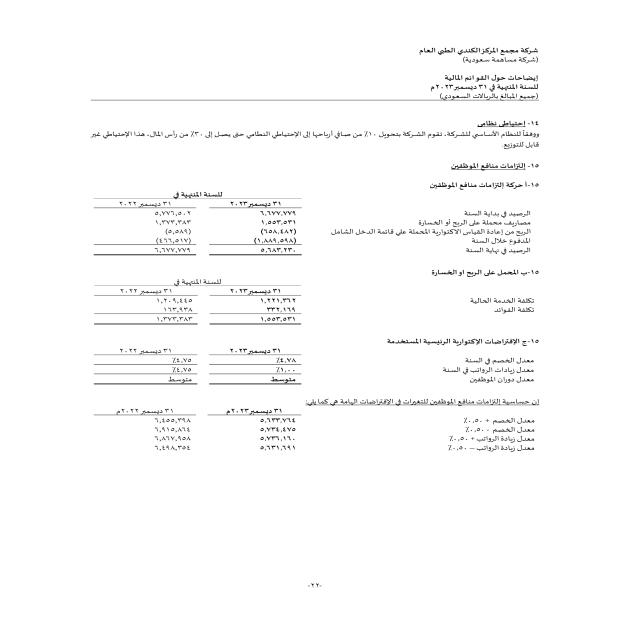notes: (432, 75, 544, 83)
table: (69, 180, 326, 267), (67, 274, 313, 328), (69, 402, 298, 458), (60, 343, 307, 394)
